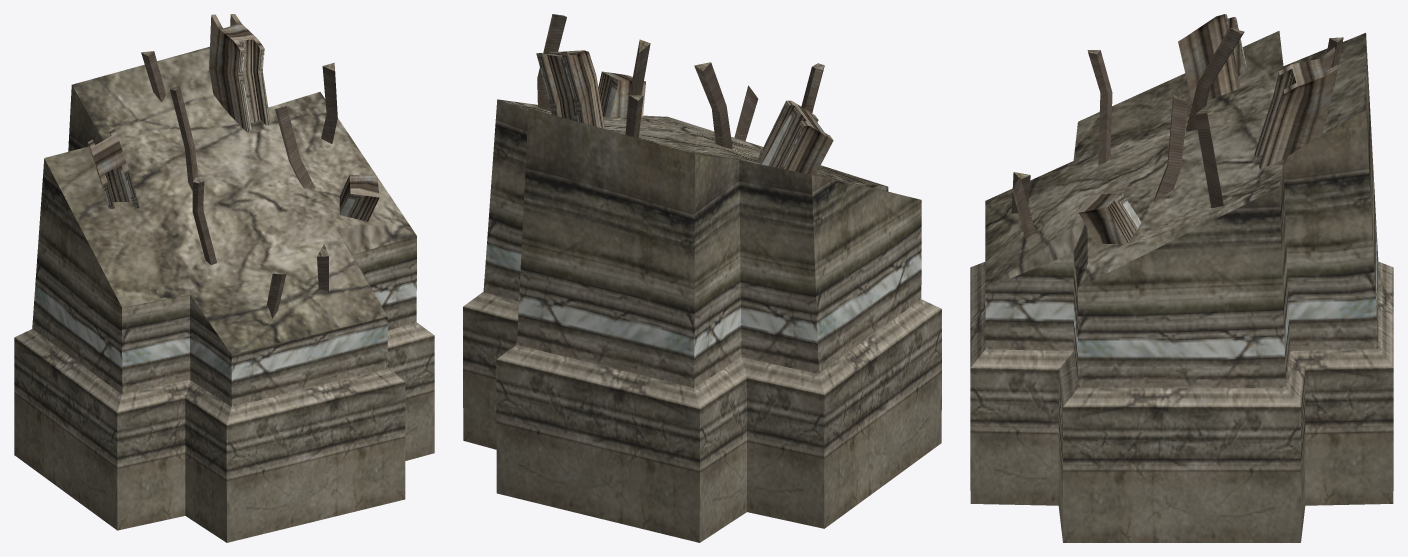
The model's file is SM_EN_2005_zhizi06.FBX.
3 renders of one model, left to right at view 1: azimuth 30°, elevation 25°; view 2: azimuth 150°, elevation 25°; view 3: azimuth 270°, elevation 25°, orthographic. The views are drawn at different scales.
Parts seen in each view (by area): view 1: SM_EN_2005_zhizi06; view 2: SM_EN_2005_zhizi06; view 3: SM_EN_2005_zhizi06.
Part boxes in pixels (x1=…): SM_EN_2005_zhizi06: x1=14, y1=14, x2=434, y2=542; SM_EN_2005_zhizi06: x1=463, y1=14, x2=941, y2=542; SM_EN_2005_zhizi06: x1=970, y1=14, x2=1393, y2=542.
Bounding box in the file's own units: 86.45 × 98.38 × 86.45.
